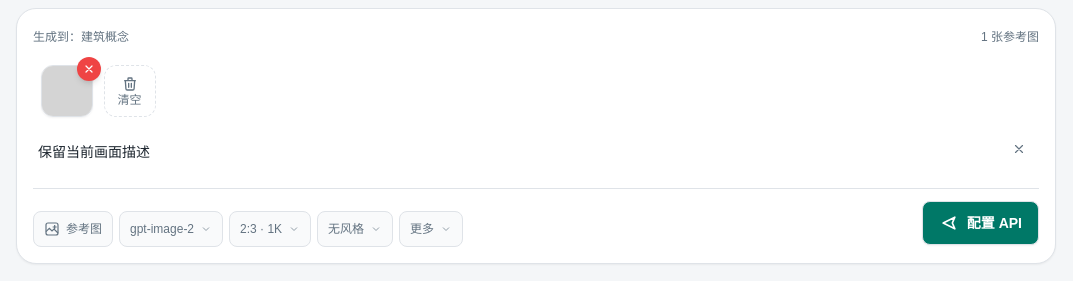
Test case: InputBar › 在图库显示真实生成目标，切换对话和返回目标保留同一份草稿
Expected: the text box named "描述图片" holds "保留当前画面描述", [33, 129, 1039, 173]
Click the button "生成到：建筑概念" at (81, 37), box [33, 25, 129, 49]
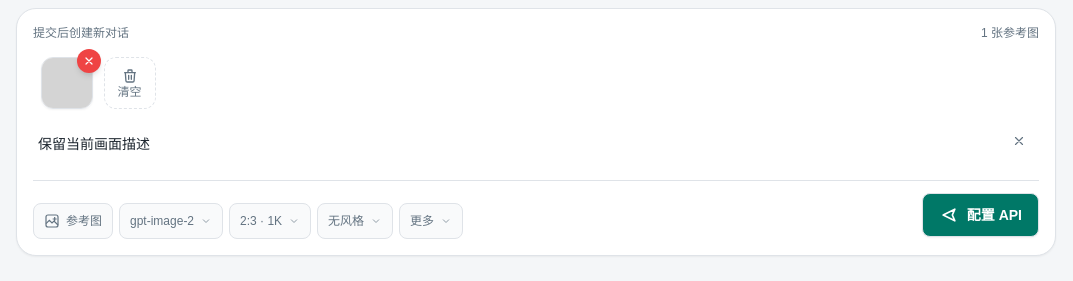
Expected: the text "提交后创建新对话" is shown, [33, 25, 129, 41]
